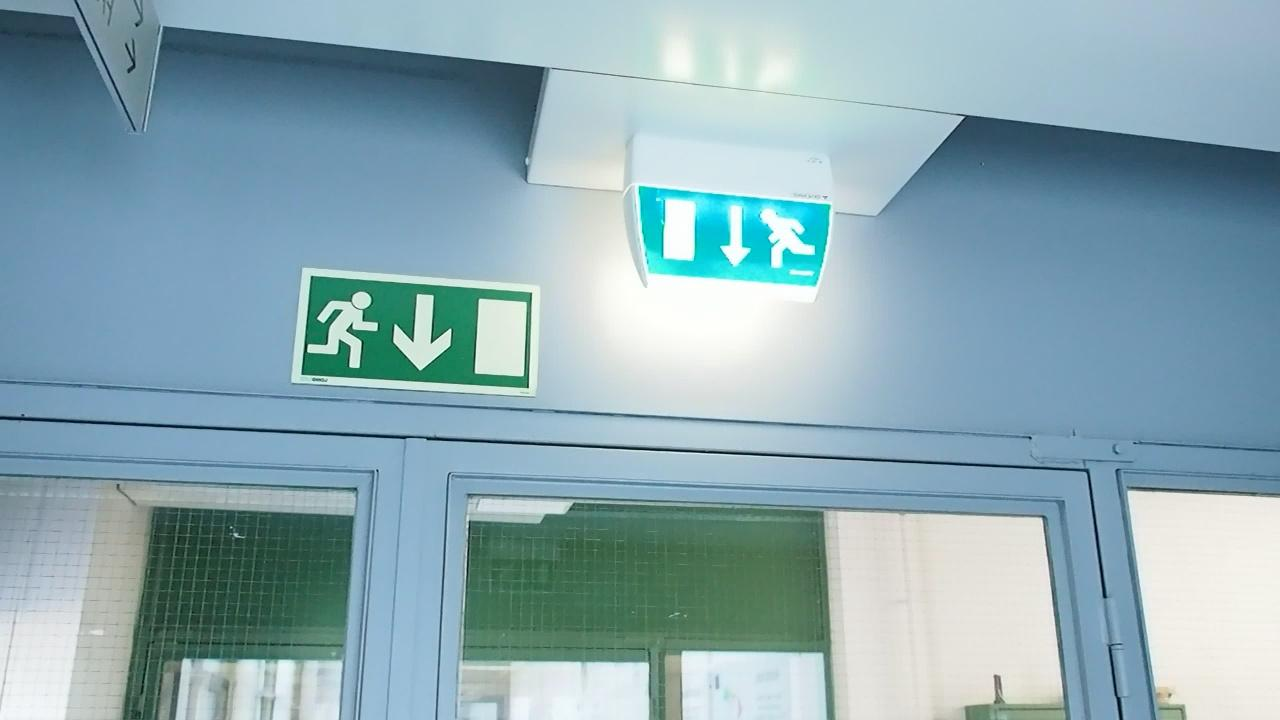exit: (288, 274, 532, 392), (633, 186, 835, 289)
